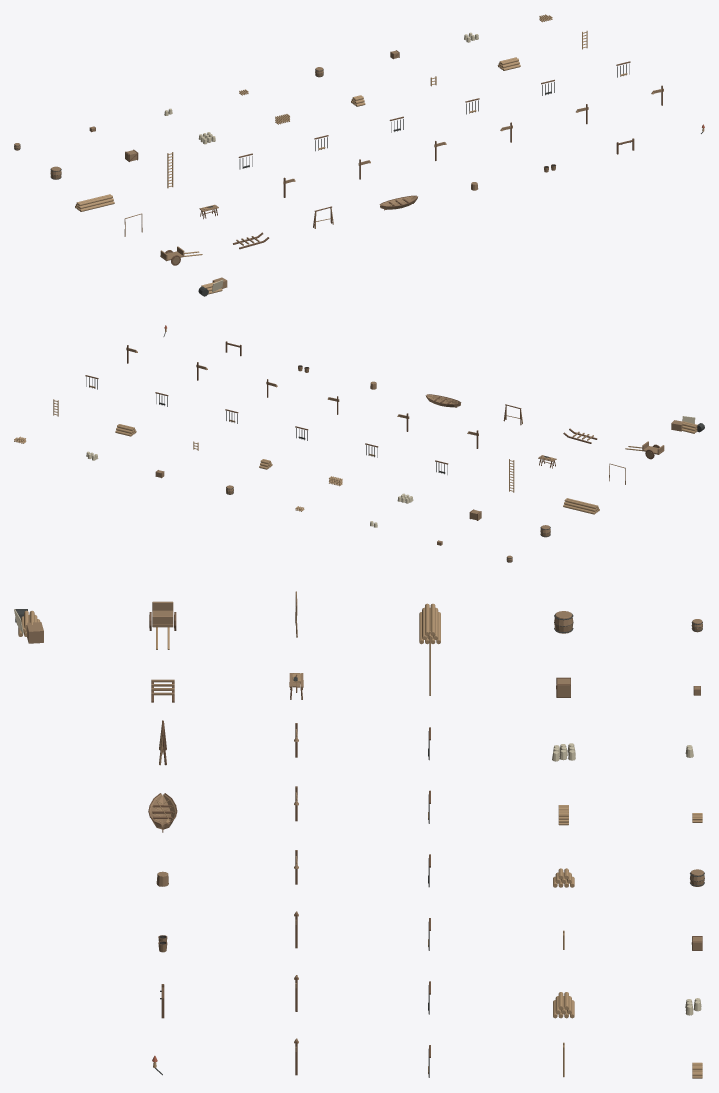
Rendered from props.glb.
The picture shows the model from 3 angles, top to bottom: view 1: azimuth 30°, elevation 25°; view 2: azimuth 150°, elevation 25°; view 3: azimuth 270°, elevation 25°; orthographic projection. The views are drawn at different scales.
Visible parts, largest first — view 1: no part large enough to name; view 2: GK_prop_salvage_pile; view 3: GK_prop_two_wheel_cart, GK_prop_boat_dugout, GK_prop_log_stack_4p0m, GK_prop_salvage_pile.
Part boxes in pixels (left/top/right/bottom): GK_prop_salvage_pile: left=671, top=416, right=704, bottom=433; GK_prop_two_wheel_cart: left=149, top=601, right=176, bottom=649; GK_prop_boat_dugout: left=148, top=793, right=177, bottom=832; GK_prop_log_stack_4p0m: left=419, top=603, right=440, bottom=644; GK_prop_salvage_pile: left=14, top=609, right=43, bottom=643.
Bounding box in the file's own units: 65.82 × 4.03 × 41.37.
